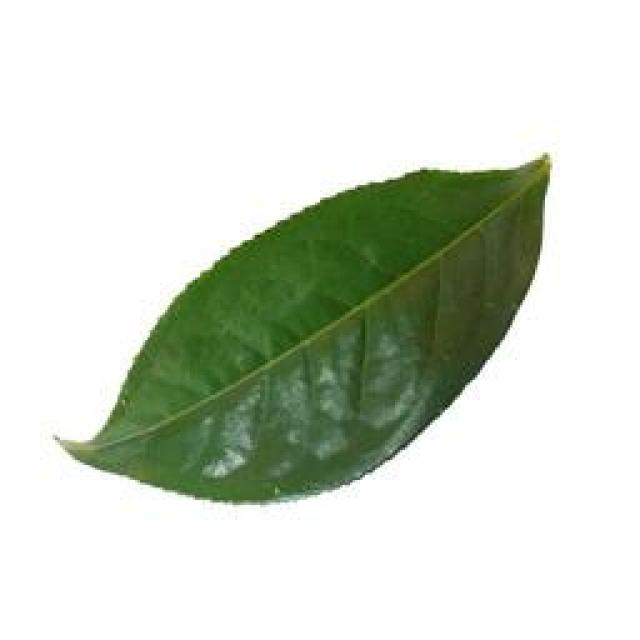Healthy: (56, 152, 556, 502)
